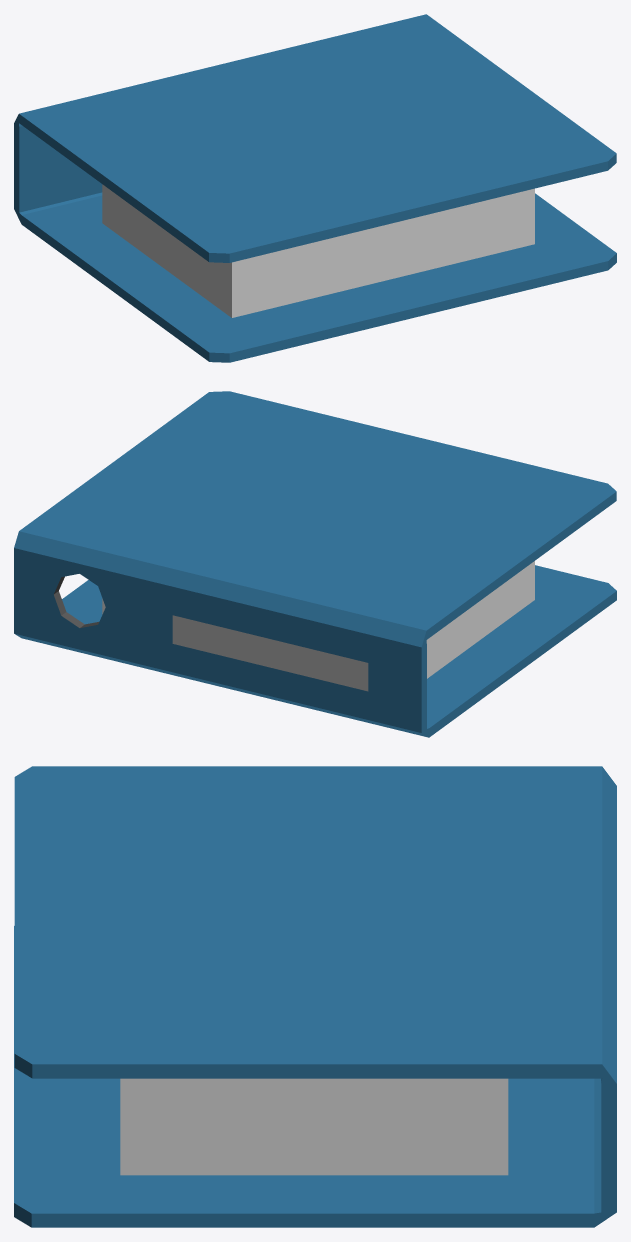
Rendered from Mappe_Blå.fbx.
3 views of the same model, one above another, from view 1: azimuth 30°, elevation 25°; view 2: azimuth 150°, elevation 25°; view 3: azimuth 270°, elevation 25° (orthographic). The views are drawn at different scales.
Visible parts, largest first — view 1: Mappe, Mappestak; view 2: Mappe, Mappestak; view 3: Mappe, Mappestak.
Part boxes in pixels (x1,y1,x2,y2): Mappe: (14, 14, 616, 362); Mappestak: (102, 184, 534, 317); Mappe: (14, 391, 616, 737); Mappestak: (102, 561, 534, 678); Mappe: (14, 766, 616, 1227); Mappestak: (120, 1078, 508, 1175).
Bounding box in the file's own units: 141 × 35.95 × 120.
